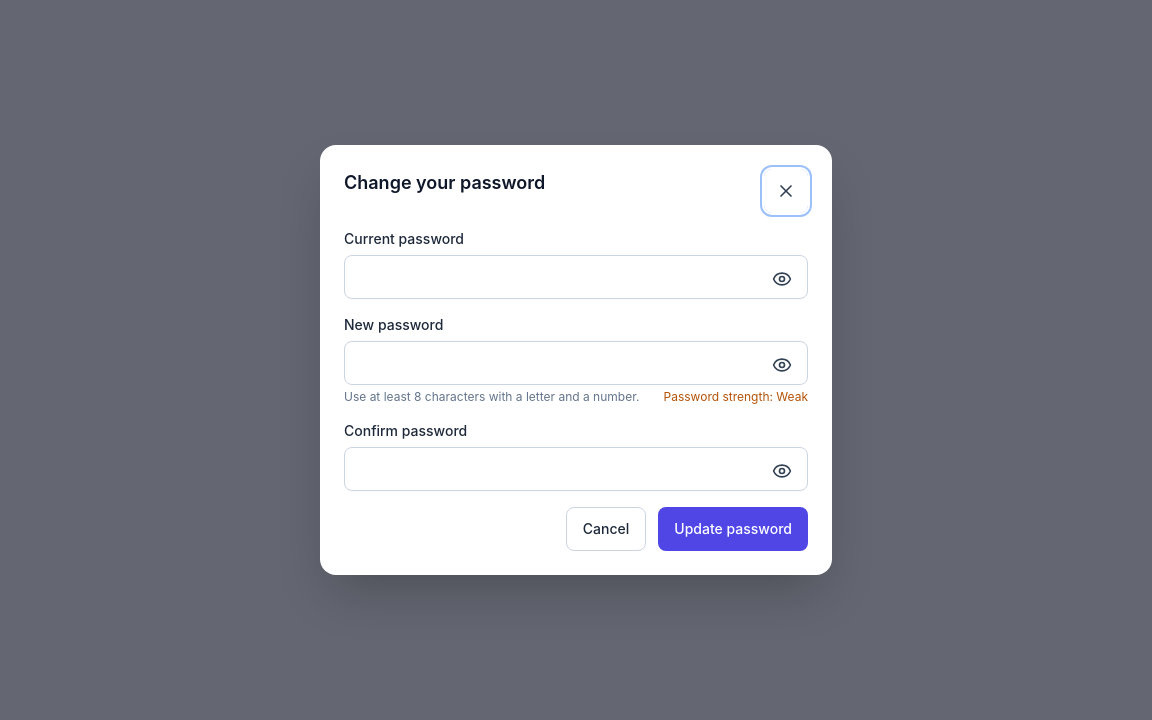
Test case: ChangePasswordModal › validates, submits the new password, and closes on success
Type "Current123" into the password field labelled "Current password".
click(576, 277); type("Current123")  # box [344,255,808,299]
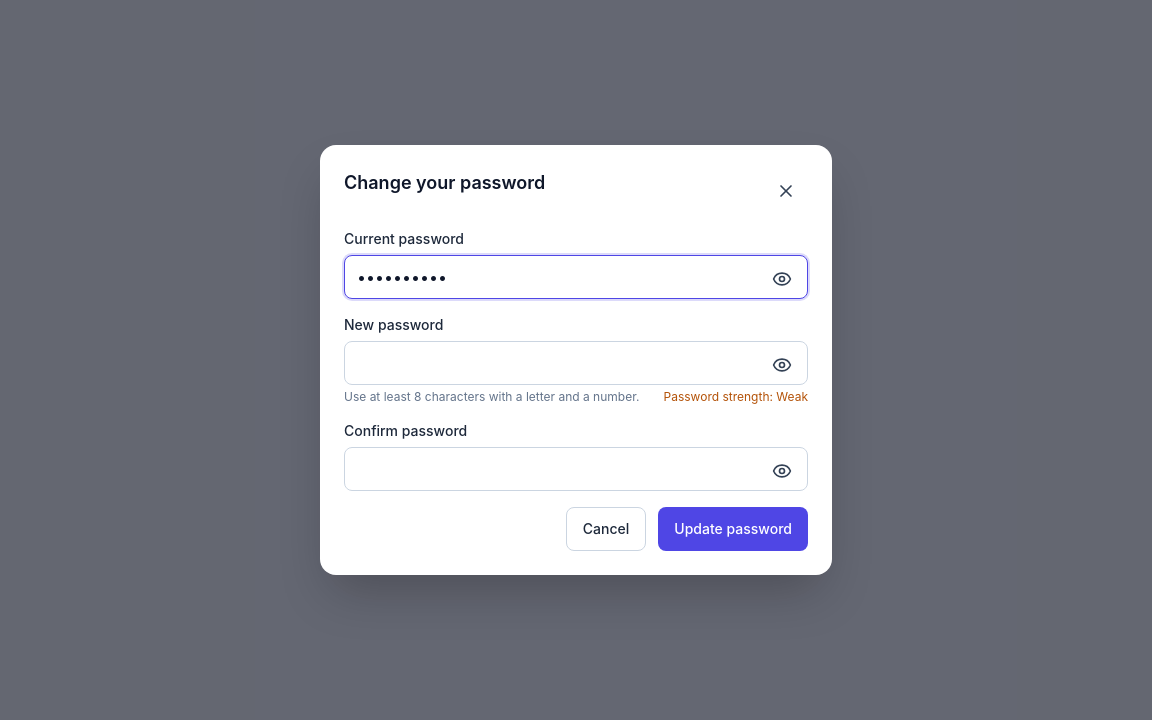
Type "Better456" into the password field labelled "New password".
click(576, 363); type("Better456")  # box [344,341,808,385]
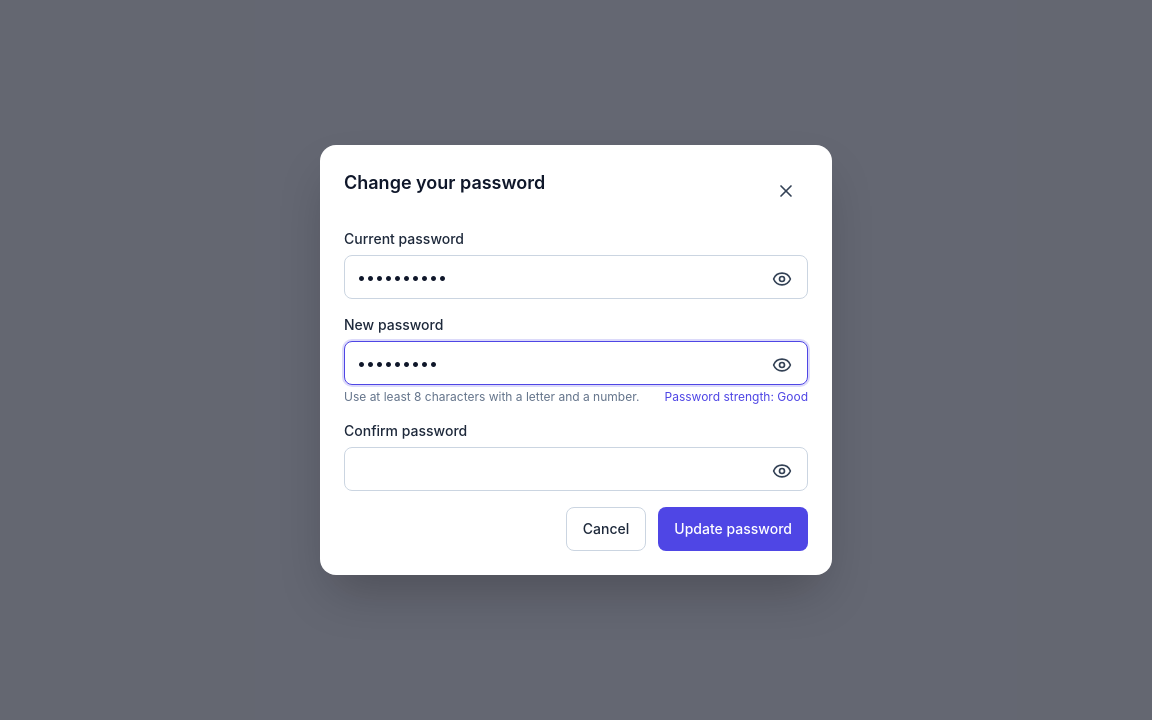
Type "Better456" into the password field labelled "Confirm password".
click(576, 469); type("Better456")  # box [344,447,808,491]
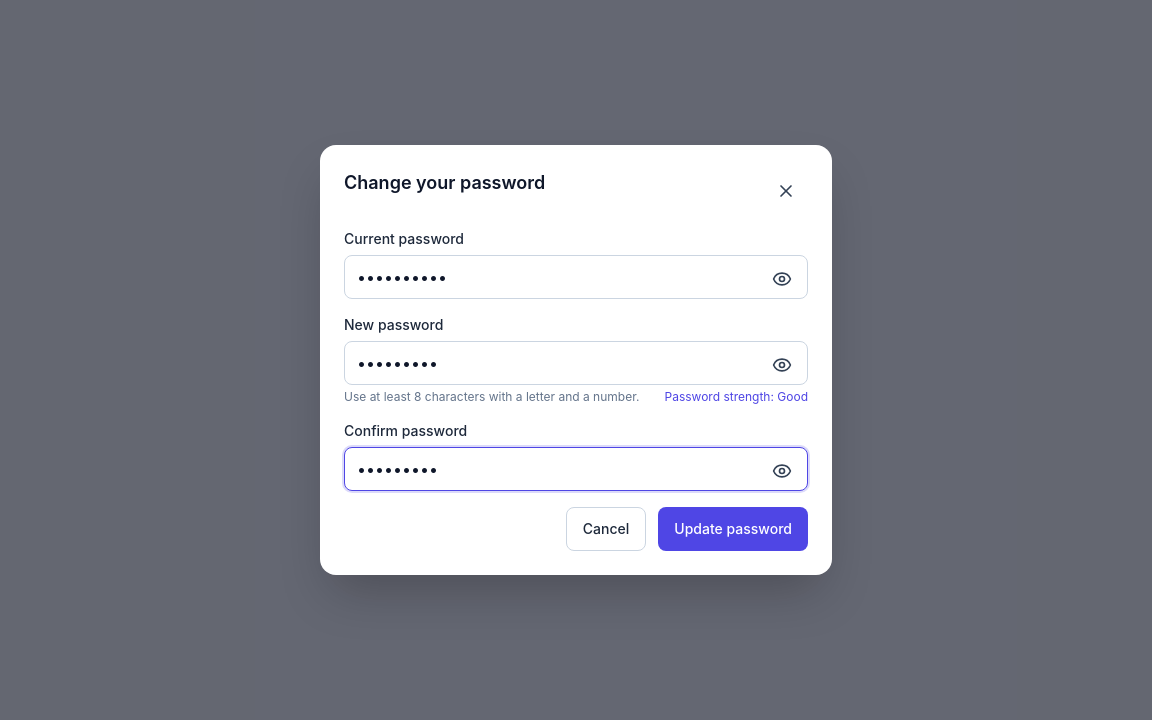
Click the button "Update password".
click(733, 529)  # box [658,507,808,551]
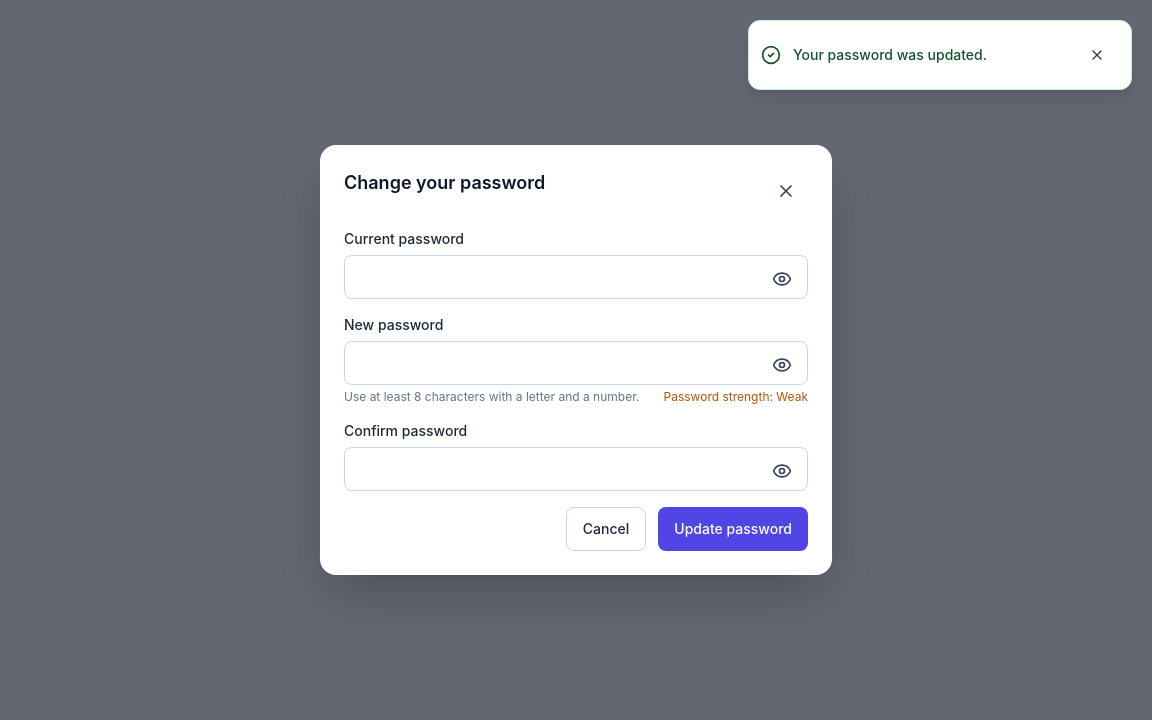
Expected: the message reads "Your password was updated.", [793,46,987,63]
